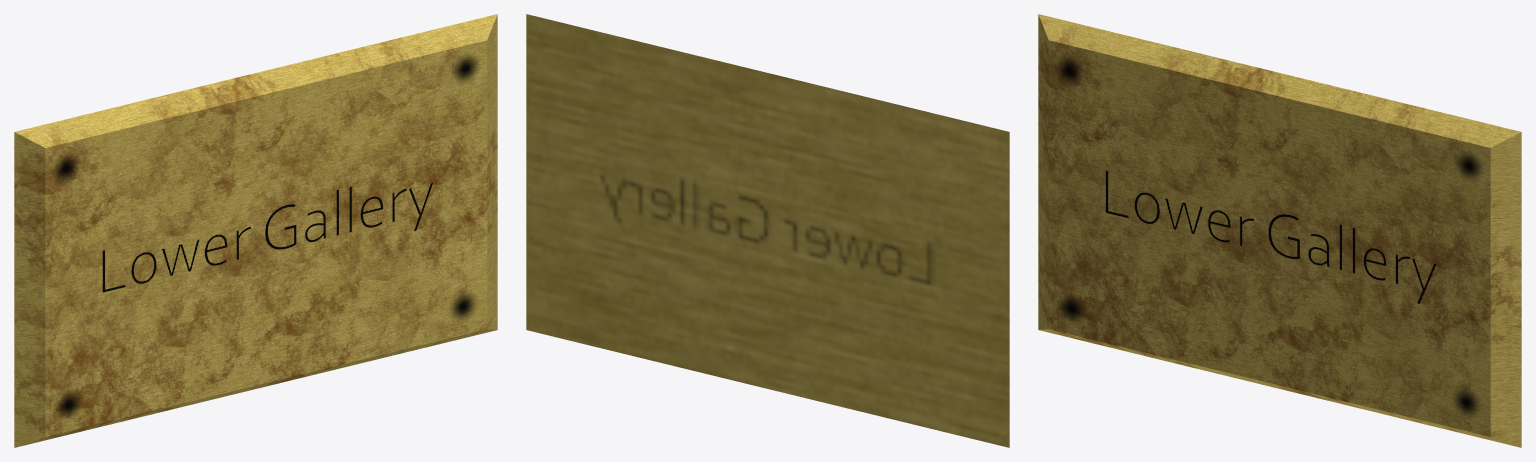
File: Gallery_Lower.fbx
The picture shows the model from 3 angles, left to right: view 1: azimuth 30°, elevation 25°; view 2: azimuth 150°, elevation 25°; view 3: azimuth 330°, elevation 25°; orthographic projection.
Visible parts, largest first — view 1: GalleryLower; view 2: GalleryLower; view 3: GalleryLower.
Part boxes in pixels (x1,y1,x2,y2): GalleryLower: (14, 14, 497, 447); GalleryLower: (526, 14, 1009, 447); GalleryLower: (1038, 14, 1521, 447).
Size of the model in its own units: 80 by 49.98 by 2.97.
1 material, 1 textured.
